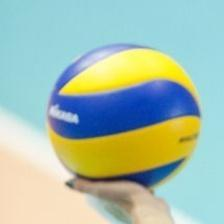Sports-Ball: (46, 41, 202, 193)
